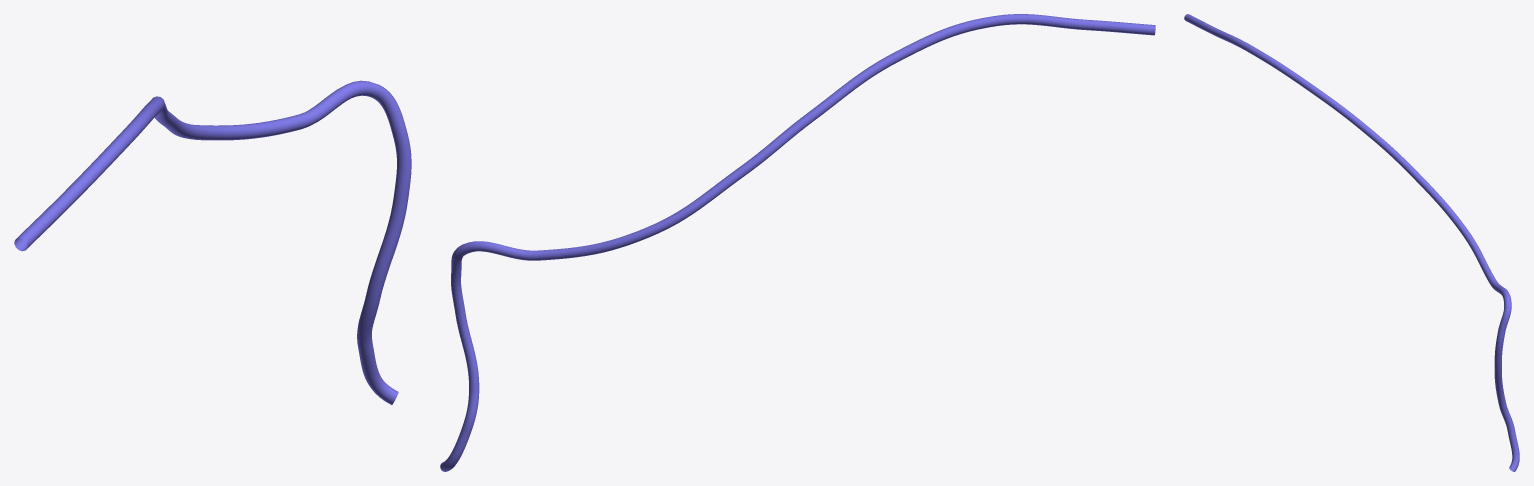
Rendered from Suprascapular_vein.l_BezierCurve.314.glb.
3 renders of one model, left to right at view 1: azimuth 30°, elevation 25°; view 2: azimuth 150°, elevation 25°; view 3: azimuth 270°, elevation 25°, orthographic. The views are drawn at different scales.
Parts seen in each view (by area): view 1: Suprascapular_vein.l_BezierCurve.314; view 2: Suprascapular_vein.l_BezierCurve.314; view 3: Suprascapular_vein.l_BezierCurve.314.
Part boxes in pixels (<box>): Suprascapular_vein.l_BezierCurve.314: <box>14,80,411,404</box>; Suprascapular_vein.l_BezierCurve.314: <box>440,14,1155,471</box>; Suprascapular_vein.l_BezierCurve.314: <box>1184,14,1519,471</box>.
Bounding box in the file's own units: 0.0758 × 0.0609 × 0.0623.
